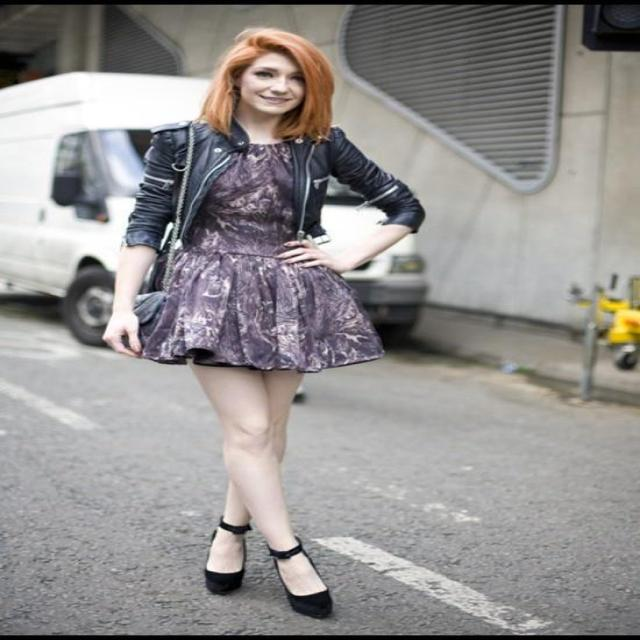dress: (134, 128, 384, 371)
sweater: (123, 120, 426, 251)
